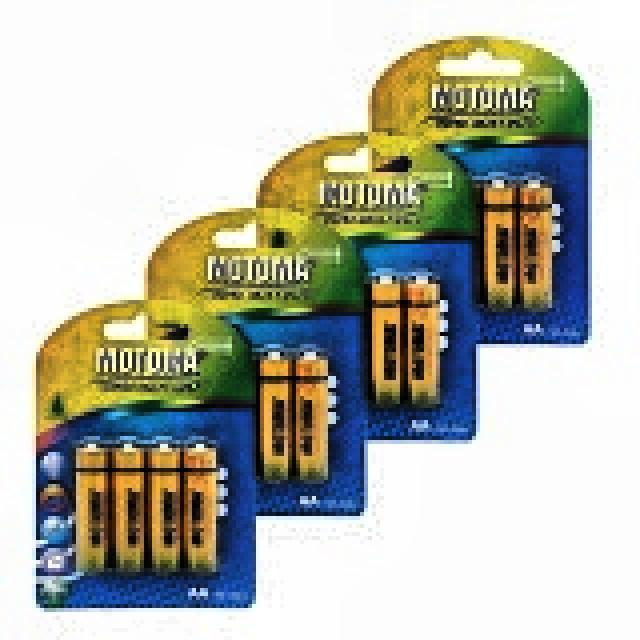battery: (75, 442, 226, 575), (258, 354, 335, 481), (479, 184, 555, 310), (369, 280, 442, 408)
